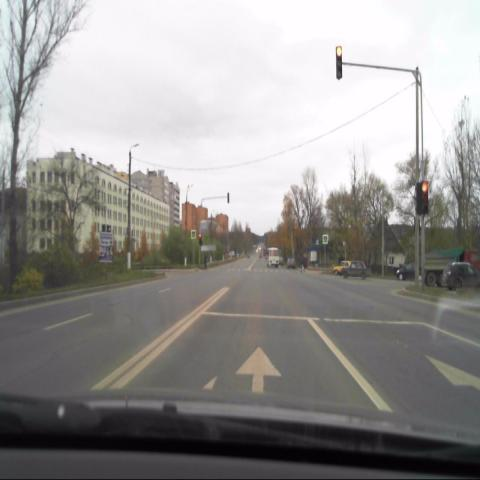5_19_1: (322, 234, 328, 246)
